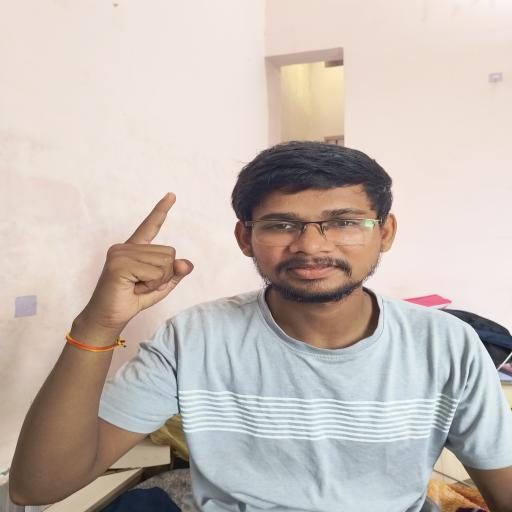What: (69, 185, 221, 342)
